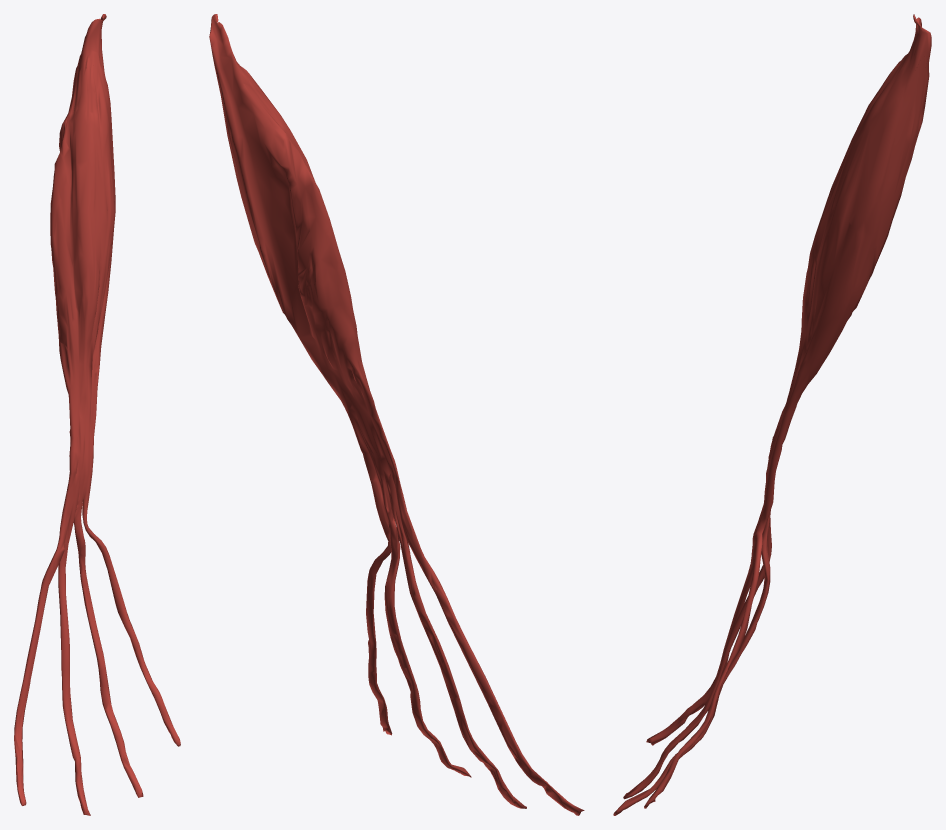
File: musculos-flexor-digitorum-profundus-r.glb
3 renders of one model, left to right at view 1: azimuth 30°, elevation 25°; view 2: azimuth 150°, elevation 25°; view 3: azimuth 270°, elevation 25°, orthographic. The views are drawn at different scales.
Parts seen in each view (by area): view 1: Flexor digitorum profundus.r; view 2: Flexor digitorum profundus.r; view 3: Flexor digitorum profundus.r.
Boxes of the visible parts, x1,y1,x2,y2 form: Flexor digitorum profundus.r: (14, 14, 180, 815); Flexor digitorum profundus.r: (209, 14, 584, 815); Flexor digitorum profundus.r: (613, 14, 931, 815).
Size of the model in its own units: 0.1065 by 0.365 by 0.122.
